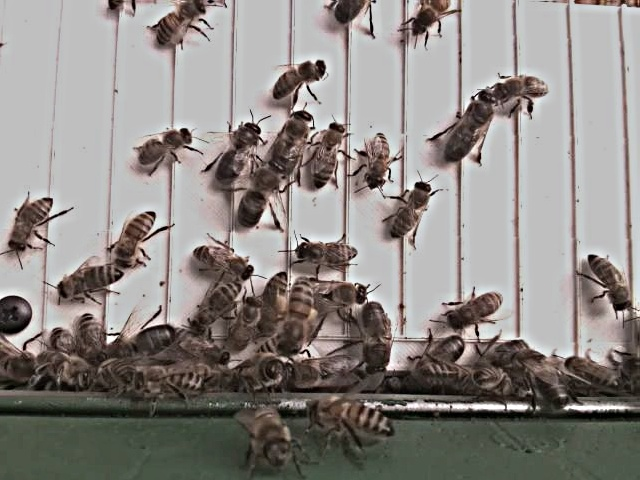Drone: (440, 86, 498, 164), (235, 158, 286, 228), (214, 118, 265, 187), (100, 321, 181, 363), (267, 107, 313, 177), (357, 298, 395, 378)
Worker: (311, 398, 395, 435), (188, 280, 241, 336), (585, 252, 633, 313), (388, 178, 434, 240), (10, 194, 57, 252), (153, 0, 212, 44), (282, 275, 315, 353), (310, 117, 346, 188), (136, 125, 196, 167), (448, 288, 507, 329), (271, 59, 330, 100), (116, 207, 158, 264), (57, 264, 124, 299), (194, 243, 257, 280), (134, 364, 206, 395), (256, 268, 289, 332), (230, 292, 265, 351), (295, 237, 359, 268), (363, 128, 393, 189), (496, 72, 550, 103), (77, 309, 108, 358)
